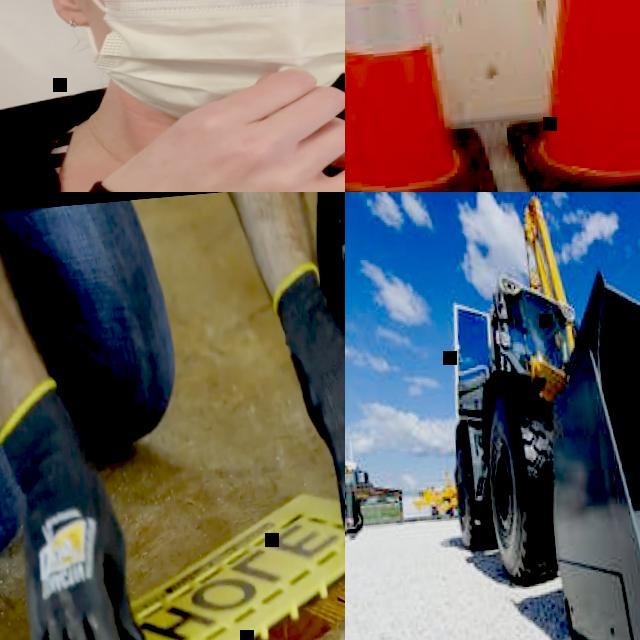Mask: (75, 0, 345, 127)
NO-Safety Vest: (0, 102, 345, 192)
Person: (0, 192, 345, 640), (0, 0, 345, 192)
Safety Cone: (463, 0, 640, 192), (345, 0, 502, 192)
machinery: (426, 192, 640, 640), (345, 391, 362, 537)
